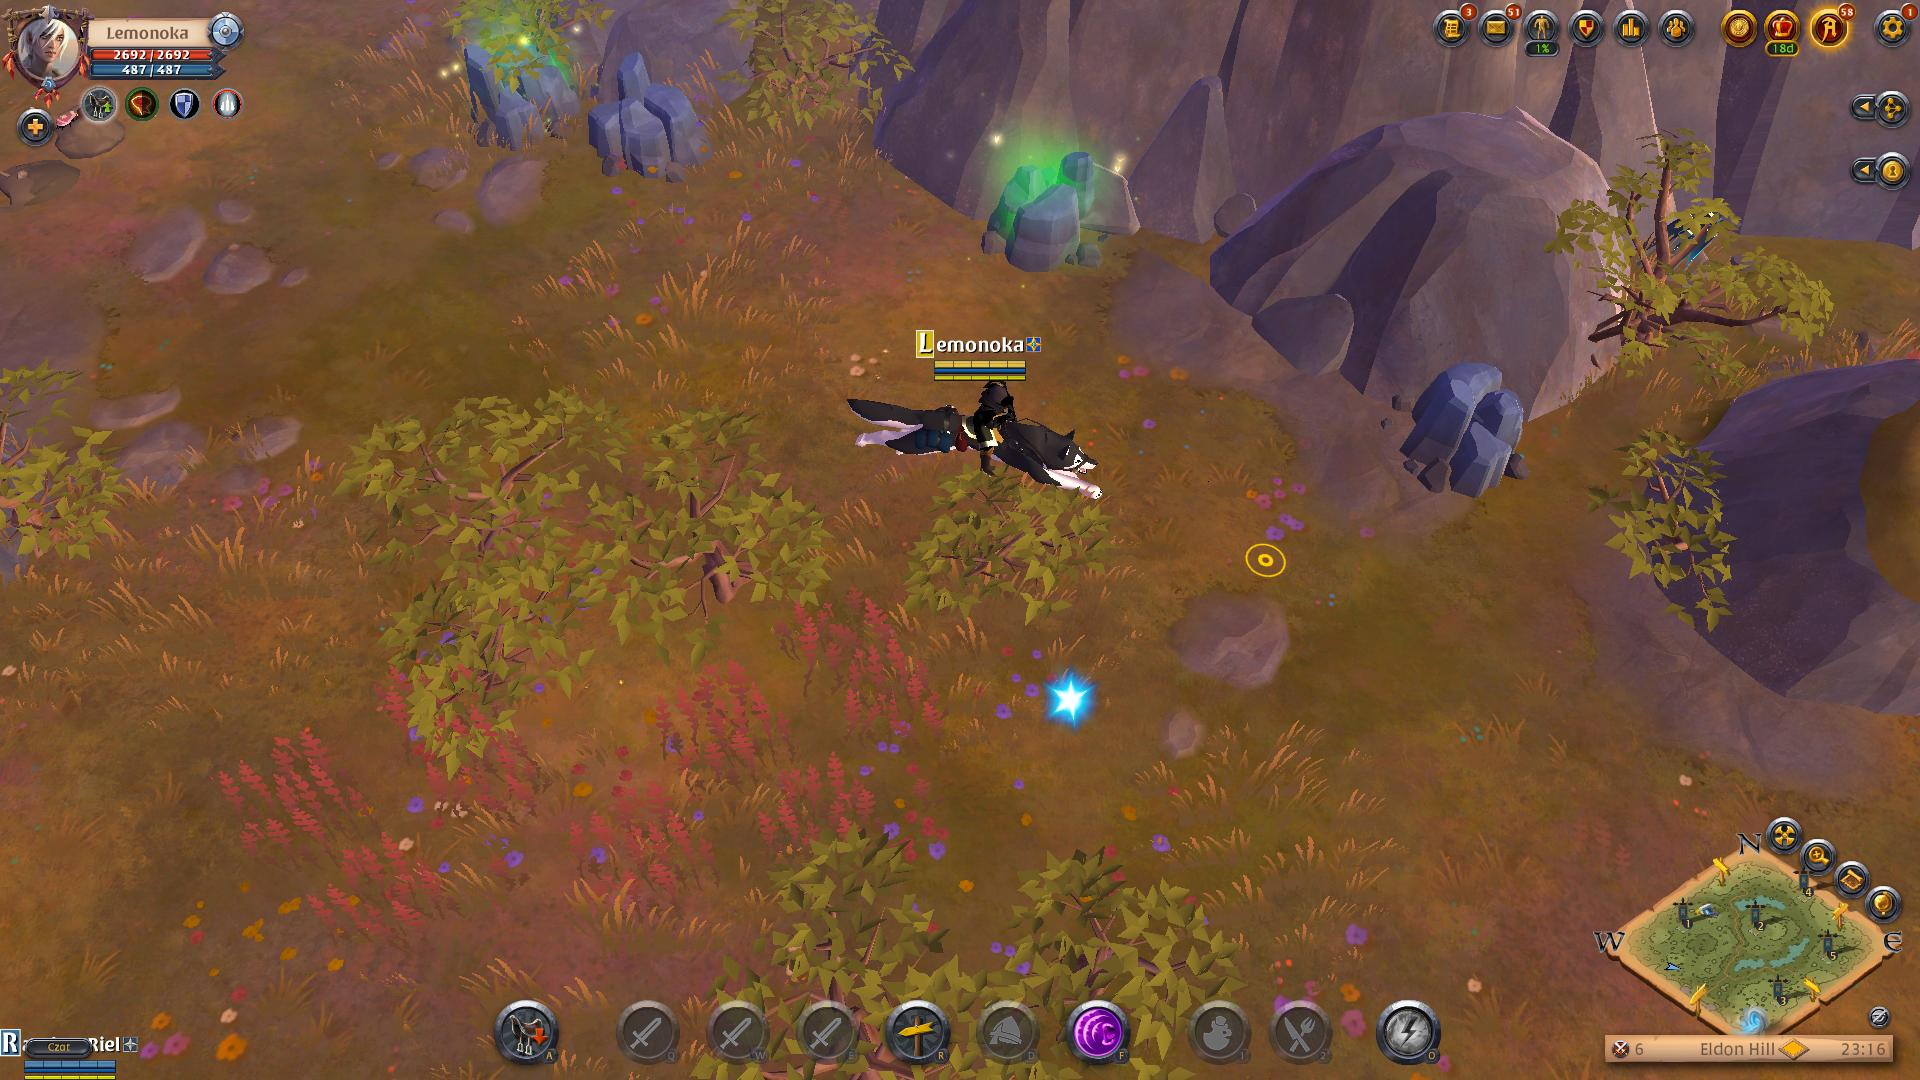rock tier 4: (1385, 355, 1536, 500), (981, 146, 1110, 278), (582, 49, 708, 181), (459, 26, 587, 150)
